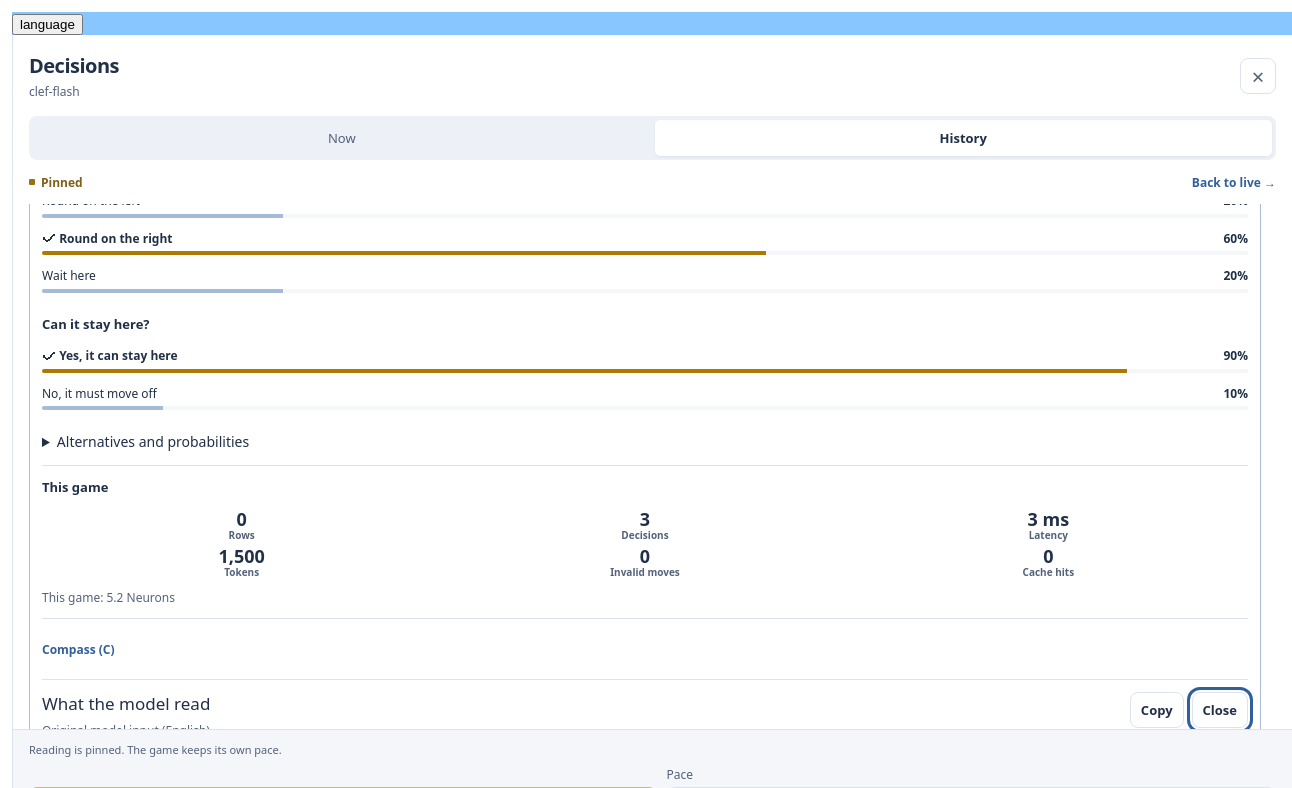
Test: visual decision panel › retranslates pinned data and preserves original model input
(page scrolled)
Click the button "language": point(47, 24) left=12, top=14, right=83, bottom=35
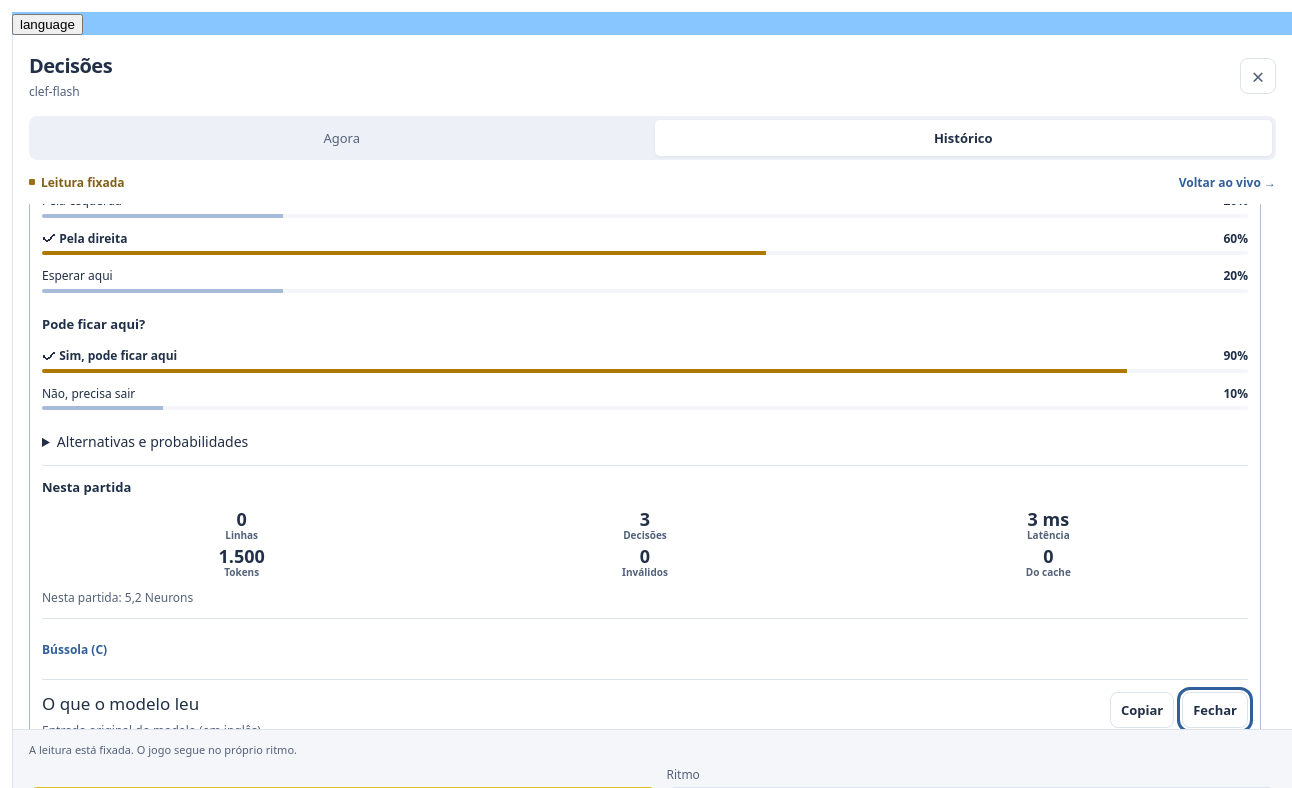
Expected: the text "Leitura fixada" is shown, left=29, top=174, right=124, bottom=191
